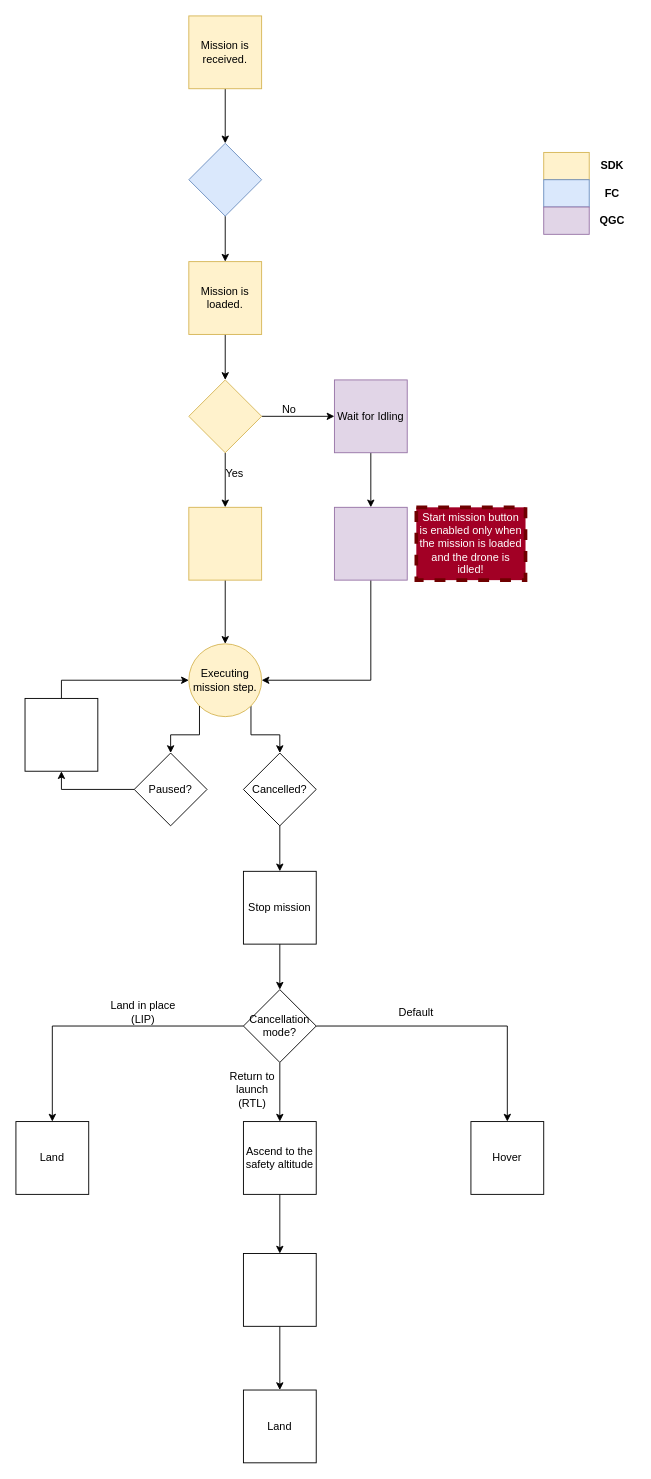
The diagram is 651 pixels wide and 1479 high, and some of its shapes have lost their labels. Here are the shapes that lost their labels. From the top down, the box of each, then its label:
(188, 142, 262, 216): Is LeafSDK mode?
(188, 379, 262, 453): Forced?
(188, 506, 262, 580): Idle and start mission automatically.
(334, 506, 407, 580): Start the mission from QGC
(24, 698, 98, 771): Wait for resume.
(243, 1253, 316, 1326): Go to home point.
